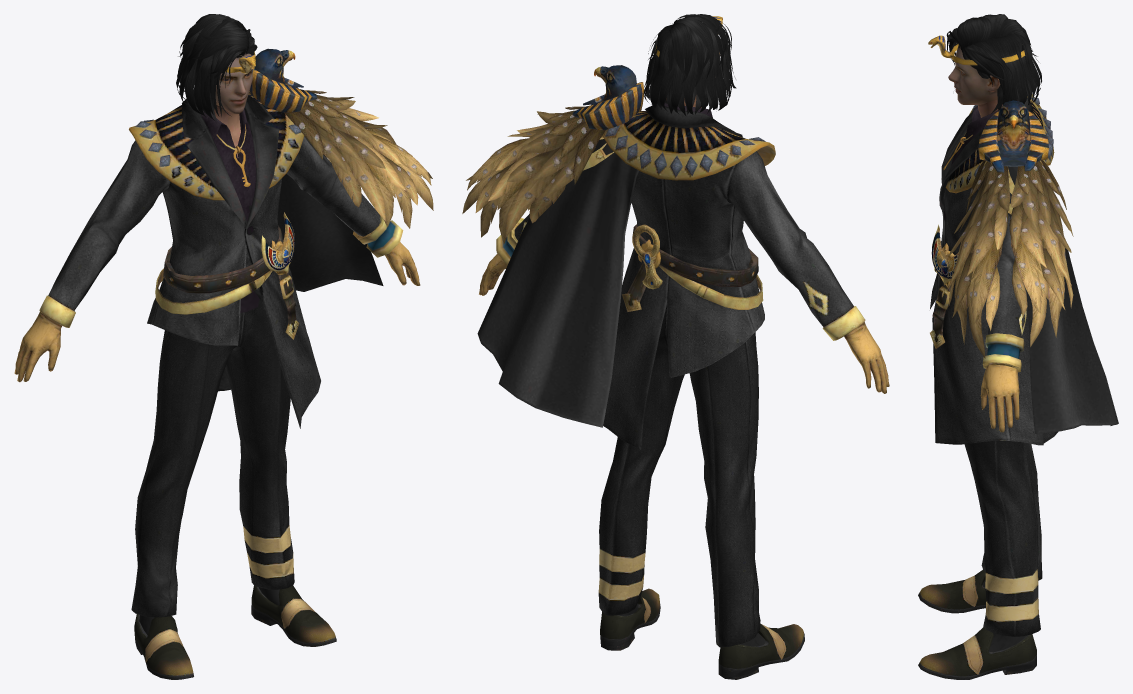
Rendered from MaleImperialEgypt[Blender-Render].fbx.
3 renders of one model, left to right at view 1: azimuth 30°, elevation 25°; view 2: azimuth 150°, elevation 25°; view 3: azimuth 270°, elevation 25°, orthographic.
Parts seen in each view (by area): view 1: Male_Lobby_Top_Cos_Imperialegypt_1, Male_Lobby_Bottom_Cos_Imperialegypt_0, Male_Lobby_Shoe_Cos_Imperialegypt_0, Male_Lobby_Hair_Cos_Imperialegypt_1, Male_Lobby_Head_Cos_Imperialegypt_0; view 2: Male_Lobby_Top_Cos_Imperialegypt_1, Male_Lobby_Bottom_Cos_Imperialegypt_0, Male_Lobby_Hair_Cos_Imperialegypt_1, Male_Lobby_Shoe_Cos_Imperialegypt_0; view 3: Male_Lobby_Top_Cos_Imperialegypt_1, Male_Lobby_Bottom_Cos_Imperialegypt_0, Male_Lobby_Shoe_Cos_Imperialegypt_0, Male_Lobby_Hair_Cos_Imperialegypt_1, Male_Lobby_Head_Cos_Imperialegypt_0, Male_Lobby_Hair_Cos_Imperialegypt_0.
Boxes of the visible parts, left/top/right/bottom form: Male_Lobby_Top_Cos_Imperialegypt_1: left=14, top=48, right=433, bottom=428; Male_Lobby_Bottom_Cos_Imperialegypt_0: left=131, top=285, right=294, bottom=634; Male_Lobby_Shoe_Cos_Imperialegypt_0: left=134, top=585, right=336, bottom=679; Male_Lobby_Hair_Cos_Imperialegypt_1: left=176, top=14, right=257, bottom=121; Male_Lobby_Head_Cos_Imperialegypt_0: left=215, top=53, right=252, bottom=114; Male_Lobby_Top_Cos_Imperialegypt_1: left=462, top=65, right=889, bottom=449; Male_Lobby_Bottom_Cos_Imperialegypt_0: left=598, top=304, right=765, bottom=647; Male_Lobby_Hair_Cos_Imperialegypt_1: left=643, top=14, right=736, bottom=115; Male_Lobby_Shoe_Cos_Imperialegypt_0: left=600, top=588, right=804, bottom=679; Male_Lobby_Top_Cos_Imperialegypt_1: left=930, top=94, right=1118, bottom=445; Male_Lobby_Bottom_Cos_Imperialegypt_0: left=964, top=440, right=1042, bottom=652; Male_Lobby_Shoe_Cos_Imperialegypt_0: left=918, top=570, right=1036, bottom=679; Male_Lobby_Hair_Cos_Imperialegypt_1: left=946, top=14, right=1041, bottom=113; Male_Lobby_Head_Cos_Imperialegypt_0: left=948, top=44, right=1022, bottom=104; Male_Lobby_Hair_Cos_Imperialegypt_0: left=928, top=35, right=1025, bottom=65.
Size of the model in its own units: 66.97 by 97.61 by 28.64.
Materials: 7 (7 with a texture image).
